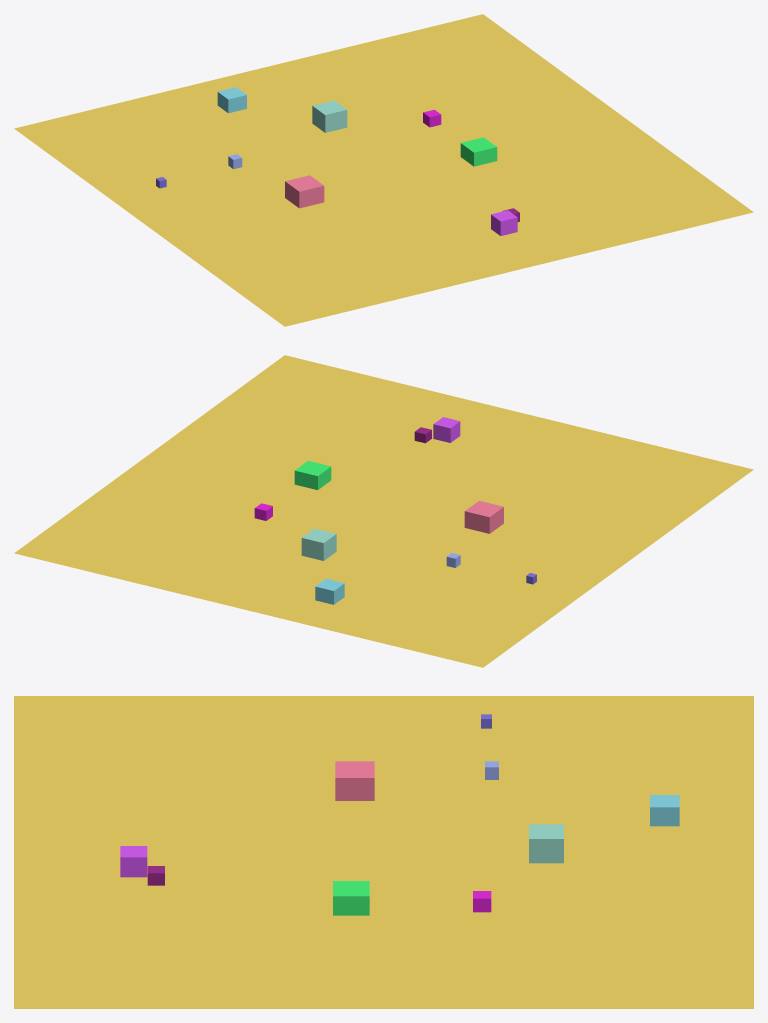
3 views of the same model, one above another, from view 1: azimuth 30°, elevation 25°; view 2: azimuth 150°, elevation 25°; view 3: azimuth 270°, elevation 25° (orthographic). The views are drawn at different scales.
Visible parts, largest first — view 1: Chunk_-2_0; view 2: Chunk_-2_0; view 3: Chunk_-2_0.
Boxes of the visible parts, bbox=[...] form: Chunk_-2_0: bbox=[14, 14, 753, 326]; Chunk_-2_0: bbox=[14, 355, 753, 667]; Chunk_-2_0: bbox=[14, 696, 753, 1008].
Bounding box in the file's own units: 1500 × 86.01 × 1500.
